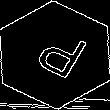P_SW: (23, 24, 87, 86)
